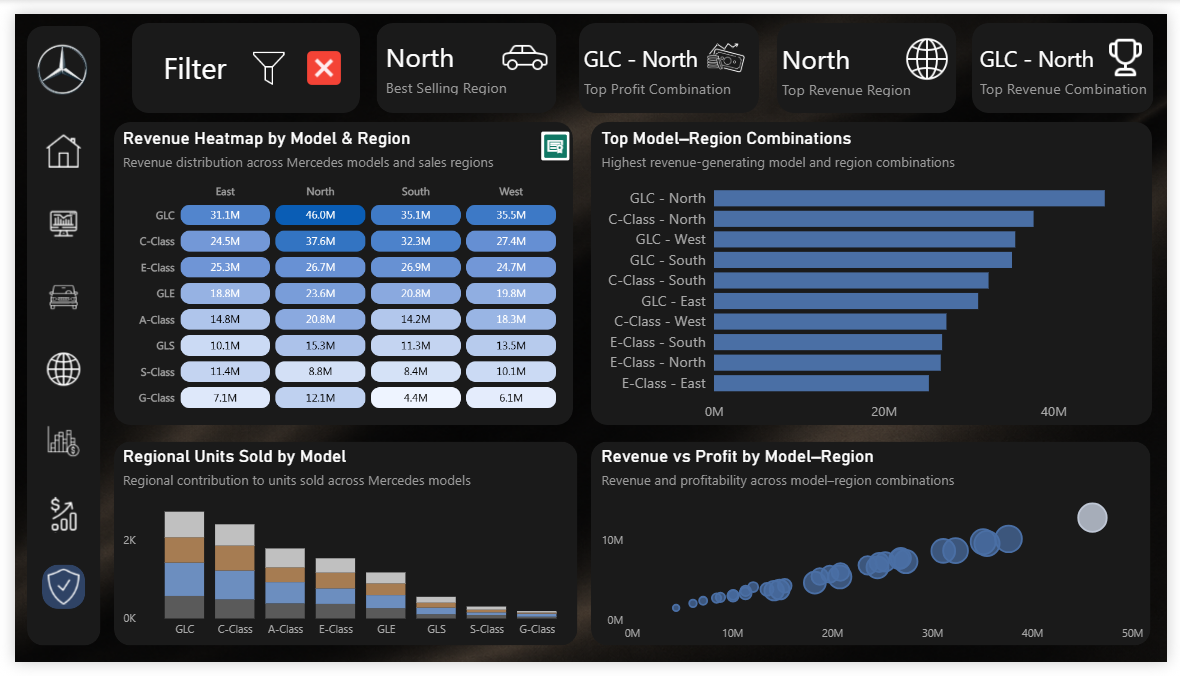

What the dashboard file says about the page in this screenshot:
{"tool":"powerbi","page":{"name":"Home Page","canvas":[1280,720],"ordinal":0},"visuals":[{"type":"image","box":[0,8,86,68],"z":0},{"type":"textbox","box":[1154,18,126,38],"z":1000},{"type":"image","box":[1104,18,46,38],"z":2000},{"type":"textbox","box":[84,22,180,46],"z":3000},{"type":"textbox","box":[15.6,106.2,271.9,39.1],"z":4000},{"type":"textbox","box":[15.6,150,428.1,168.8],"z":5000},{"type":"shape","box":[21.9,309.4,134.4,12.5],"z":6000},{"type":"textbox","box":[15.6,321.9,375,76.6],"z":7000},{"type":"group","id":"g1","title":"Group 1","box":[12.5,412.5,146.9,110.9],"z":8000},{"type":"shape","box":[178.1,415.6,146.9,100],"z":8000,"group":"g5"},{"type":"shape","box":[346.9,415.6,146.9,100],"z":8000,"group":"g4"},{"type":"shape","box":[10.9,541.1,146.9,100],"z":8000,"group":"g2"},{"type":"image","box":[178.1,412.5,68.8,60.9],"z":9000,"group":"g5"},{"type":"group","id":"g2","title":"Group 2","box":[10.9,541.1,146.9,106.2],"z":9000},{"type":"textbox","box":[182.8,465.6,114.1,57.8],"z":10000,"group":"g5"},{"type":"group","id":"g3","title":"Group 3","box":[178.1,540.6,146.9,106.2],"z":10000},{"type":"shape","box":[347.4,540.6,146.9,100],"z":10000,"group":"g6"},{"type":"shape","box":[12.5,415.6,146.9,100],"z":11000,"group":"g1"},{"type":"image","box":[345.3,418.7,68.8,48.4],"z":11000,"group":"g4"},{"type":"textbox","box":[296.9,471.9,23.4,43.8],"z":11000,"group":"g5"},{"type":"group","id":"g4","title":"Group 5","box":[345.3,415.6,148.4,107.8],"z":12000},{"type":"textbox","box":[353.4,466,90.6,57.8],"z":12000,"group":"g4"},{"type":"shape","box":[178.1,540.6,146.9,100],"z":12000,"group":"g3"},{"type":"group","id":"g5","title":"Group 6","box":[178.1,412.5,146.9,110.9],"z":13000},{"type":"image","box":[344.8,544.3,64.1,45.3],"z":13000,"group":"g6"},{"type":"image","box":[12.5,412.5,68.8,60.9],"z":14000,"group":"g1"},{"type":"textbox","box":[467.2,471.8,23.4,43.8],"z":14000,"group":"g4"},{"type":"textbox","box":[353.1,589,114.1,57.8],"z":14000,"group":"g6"},{"type":"image","box":[10.9,542.7,68.8,54.7],"z":17000,"group":"g2"},{"type":"textbox","box":[467.2,596.8,23.4,43.8],"z":18000,"group":"g6"},{"type":"group","id":"g6","title":"Group 4","box":[344.8,540.6,149.5,106.2],"z":18001},{"type":"image","box":[178.1,543.7,60.9,45.3],"z":19000,"group":"g3"},{"type":"textbox","box":[21.9,465.6,90.6,57.8],"z":20000,"group":"g1"},{"type":"textbox","box":[20.3,589.5,90.6,57.8],"z":22000,"group":"g2"},{"type":"textbox","box":[182.8,589,103.1,57.8],"z":24000,"group":"g3"},{"type":"textbox","box":[126.5,597.3,23.4,43.8],"z":26000,"group":"g2"},{"type":"textbox","box":[296.9,596.8,23.4,43.8],"z":28000,"group":"g3"},{"type":"textbox","box":[132.8,473.4,23.4,43.8],"z":31000,"group":"g1"}]}

Visuals, with their boxes in screenshot pixels (x1, y1, x2, y2), scaled from the page's 1280x720 canvas onto the 1180x676 screenshot:
image: detection(0, 8, 79, 71)
textbox: detection(1064, 17, 1179, 53)
image: detection(1018, 17, 1060, 53)
textbox: detection(77, 21, 243, 64)
textbox: detection(14, 100, 265, 136)
textbox: detection(14, 141, 409, 299)
shape: detection(20, 290, 144, 302)
textbox: detection(14, 302, 360, 374)
"Group 1" group: detection(12, 387, 147, 491)
shape: detection(164, 390, 300, 484)
shape: detection(320, 390, 455, 484)
shape: detection(10, 508, 145, 602)
image: detection(164, 387, 228, 444)
"Group 2" group: detection(10, 508, 145, 608)
textbox: detection(169, 437, 274, 491)
"Group 3" group: detection(164, 508, 300, 607)
shape: detection(320, 508, 456, 601)
shape: detection(12, 390, 147, 484)
image: detection(318, 393, 382, 439)
textbox: detection(274, 443, 295, 484)
"Group 5" group: detection(318, 390, 455, 491)
textbox: detection(326, 438, 409, 492)
shape: detection(164, 508, 300, 601)
"Group 6" group: detection(164, 387, 300, 491)
image: detection(318, 511, 377, 554)
image: detection(12, 387, 75, 444)
textbox: detection(431, 443, 452, 484)
textbox: detection(326, 553, 431, 607)
image: detection(10, 510, 73, 561)
textbox: detection(431, 560, 452, 601)
"Group 4" group: detection(318, 508, 456, 607)
image: detection(164, 510, 220, 553)
textbox: detection(20, 437, 104, 491)
textbox: detection(19, 553, 102, 608)
textbox: detection(169, 553, 264, 607)
textbox: detection(117, 561, 138, 602)
textbox: detection(274, 560, 295, 601)
textbox: detection(122, 444, 144, 486)
